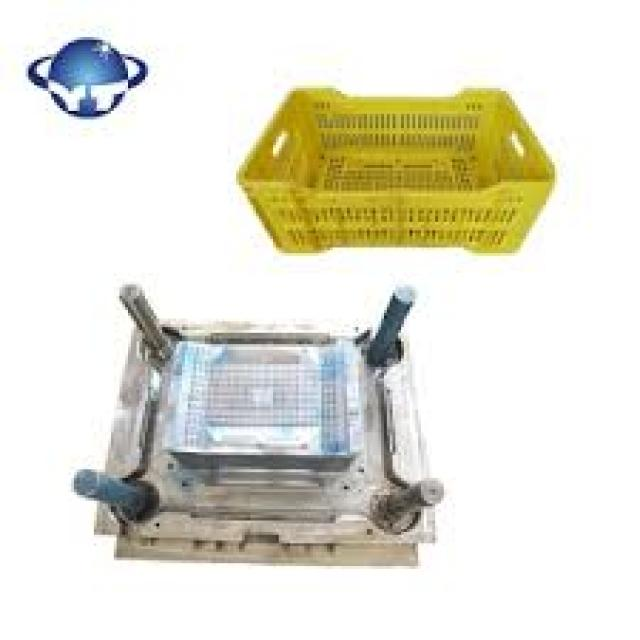basket: (238, 89, 558, 253)
